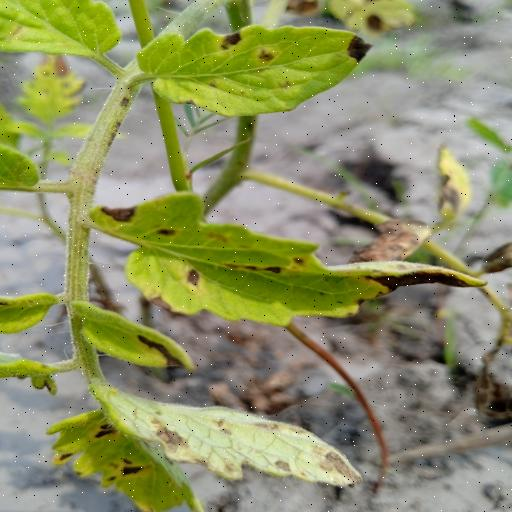Tomato_Brown_Spots: (89, 191, 489, 325), (46, 386, 363, 512), (136, 23, 376, 115)
